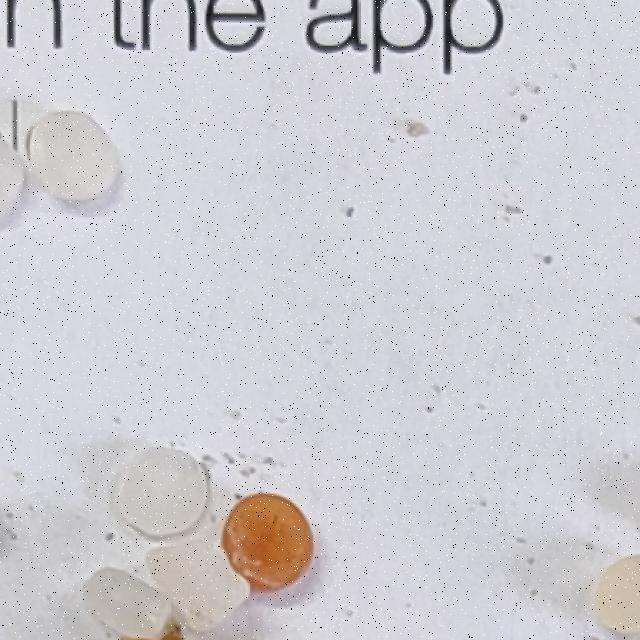beads: (207, 481, 329, 607), (112, 439, 220, 551), (26, 112, 117, 202), (590, 554, 640, 630)
fragments: (136, 516, 256, 639), (0, 1, 0, 1)
